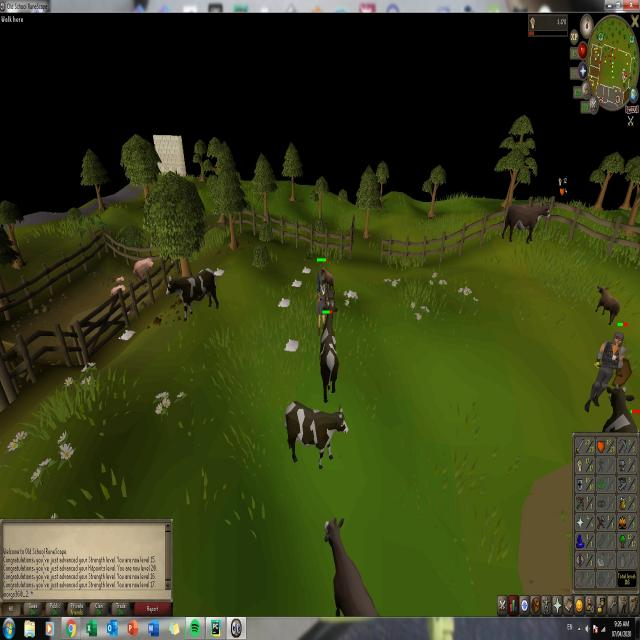cow: (322, 513, 378, 615), (284, 395, 346, 471), (164, 266, 220, 320), (500, 199, 550, 248), (317, 303, 339, 403), (602, 385, 637, 428), (594, 284, 620, 328), (320, 266, 333, 280)
player: (316, 272, 328, 320)
